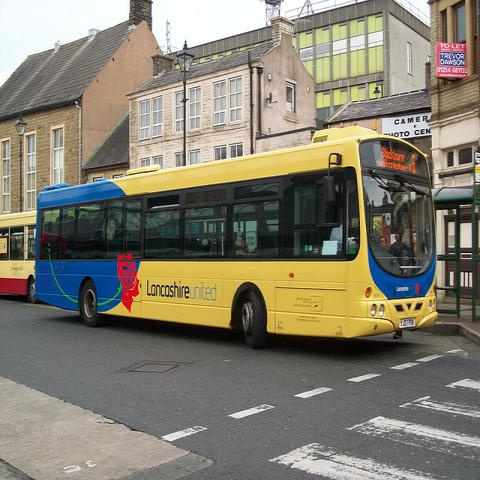bus: (35, 126, 439, 349), (0, 209, 38, 304)
